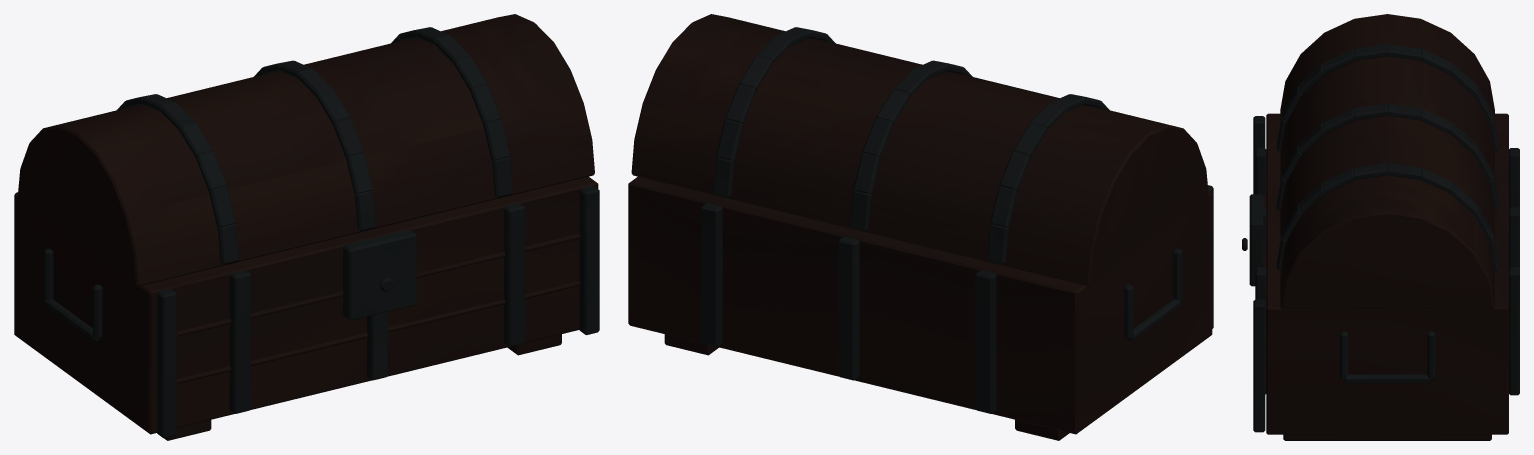
Rendered from chest_merchant_strongbox.glb.
The picture shows the model from 3 angles, left to right: view 1: azimuth 30°, elevation 25°; view 2: azimuth 150°, elevation 25°; view 3: azimuth 270°, elevation 25°; orthographic projection. The views are drawn at different scales.
Parts seen in each view (by area): view 1: MerchantStrongboxMesh; view 2: MerchantStrongboxMesh; view 3: MerchantStrongboxMesh.
Part boxes in pixels (x1=…): MerchantStrongboxMesh: x1=14, y1=14, x2=599, y2=440; MerchantStrongboxMesh: x1=628, y1=14, x2=1213, y2=440; MerchantStrongboxMesh: x1=1242, y1=14, x2=1519, y2=440.
Size of the model in its own units: 1.24 by 0.7026 by 0.71.
Materials: 3 (3 with a texture image).
